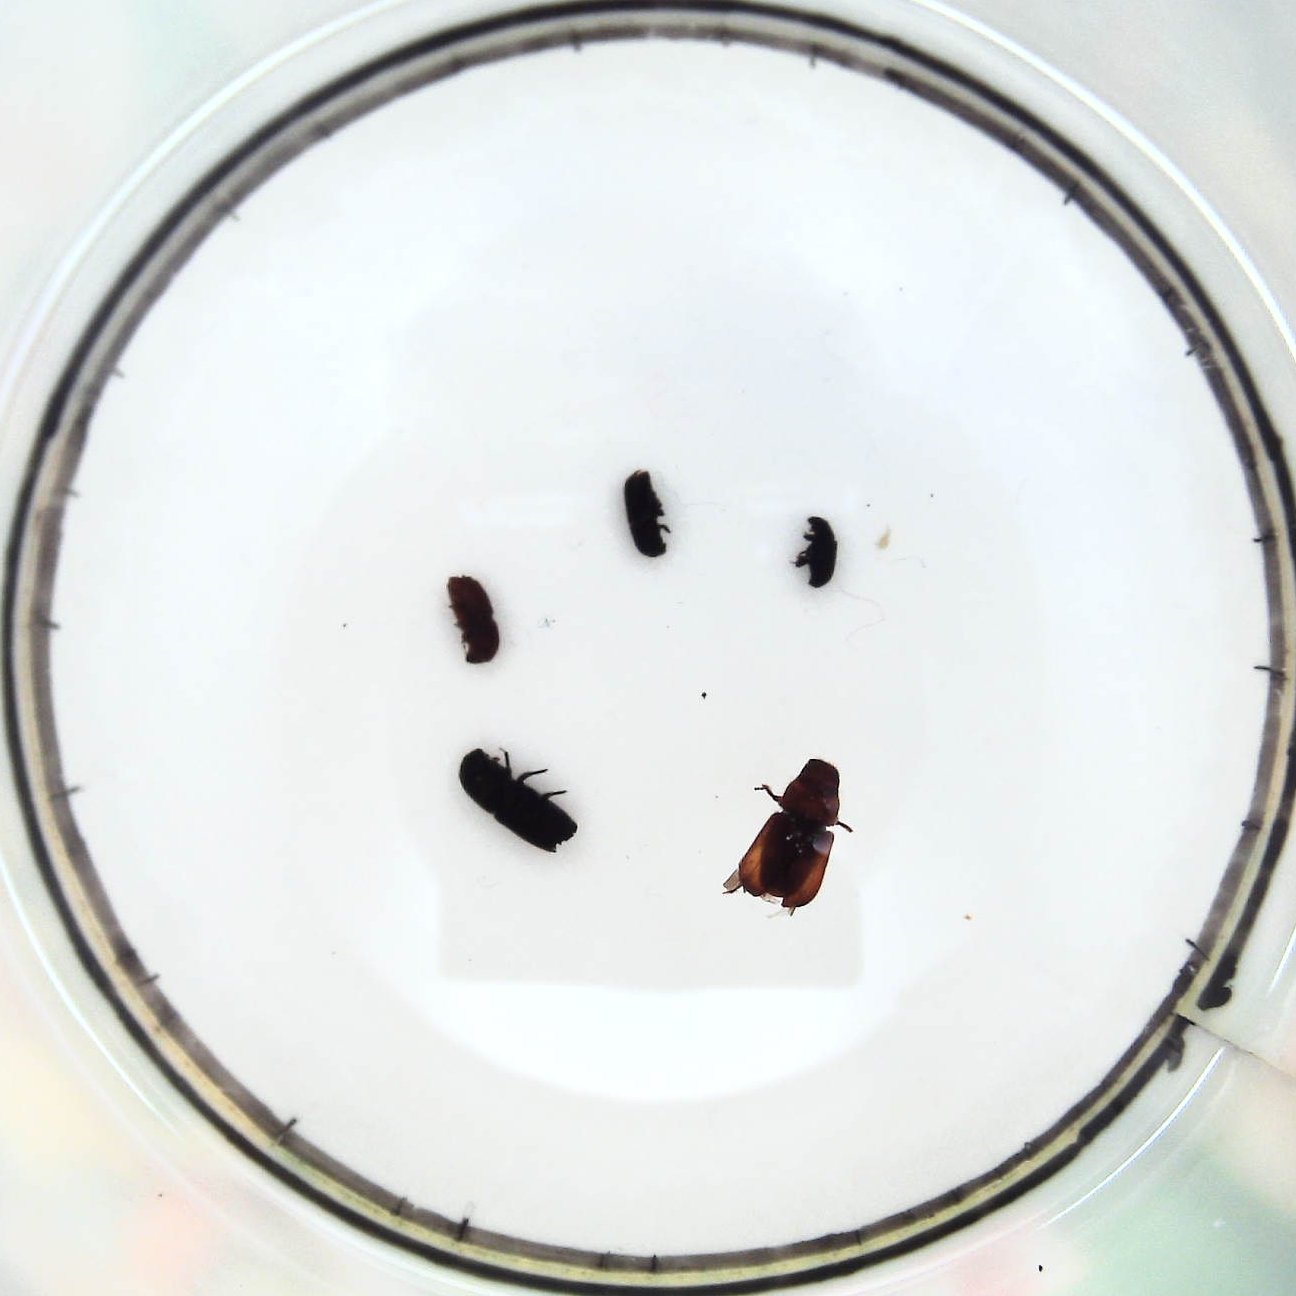Boerner: (458, 747, 576, 855)
Leconte: (728, 756, 849, 914)
Linnaeus: (444, 578, 503, 669)
armandi: (621, 469, 667, 557)
coleoptera: (790, 516, 839, 589)
